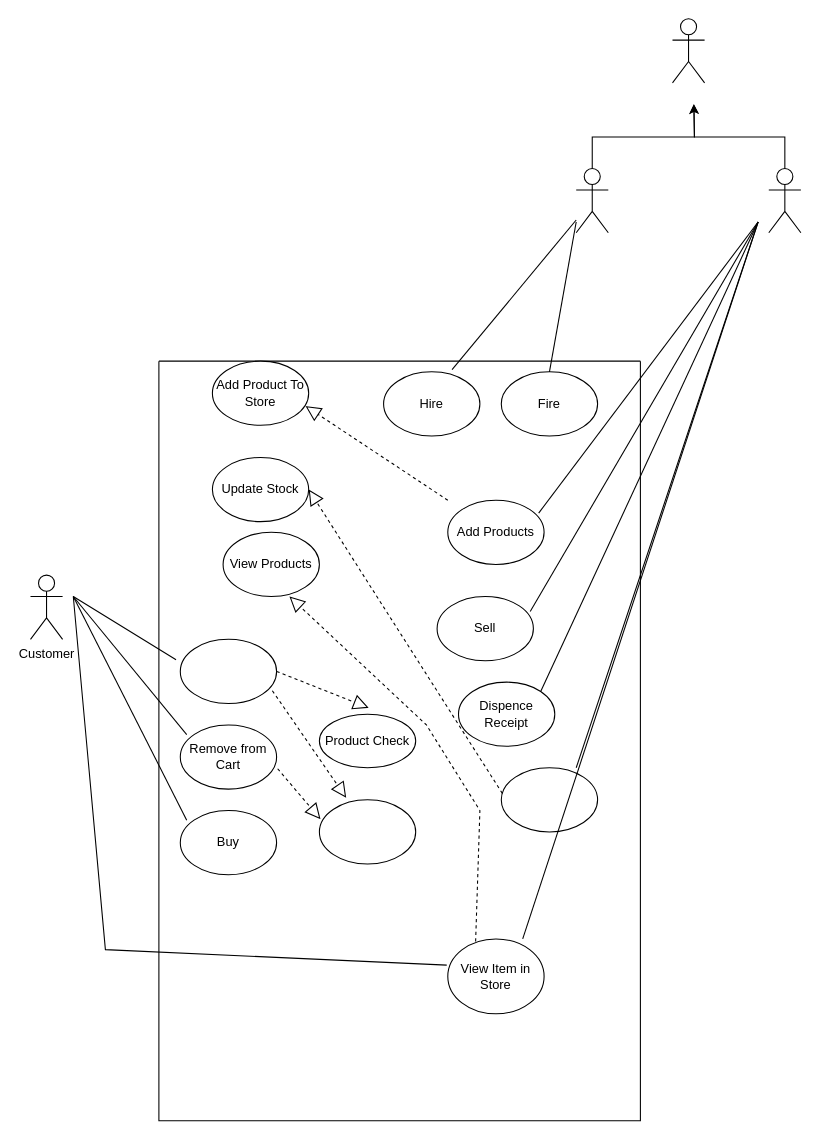
Image size: 825x1140. Some labels were removed from this diagram. The shapes that lost their labels are listed below. From the top down, each one's box as (x1, y1, x2, y2) in pixels, then its label:
(671, 18, 705, 83): Staff
(575, 167, 608, 233): Manager
(768, 167, 801, 233): Cashier
(179, 638, 277, 704): Add to Cart
(500, 767, 598, 832): Update Store Record
(318, 799, 416, 864): Adjust Quantity
